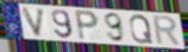9: (102, 12, 126, 43), (50, 9, 74, 40)
P: (74, 8, 101, 42)
Q: (128, 13, 155, 45)
R: (152, 14, 183, 48)
V: (20, 7, 48, 39)
